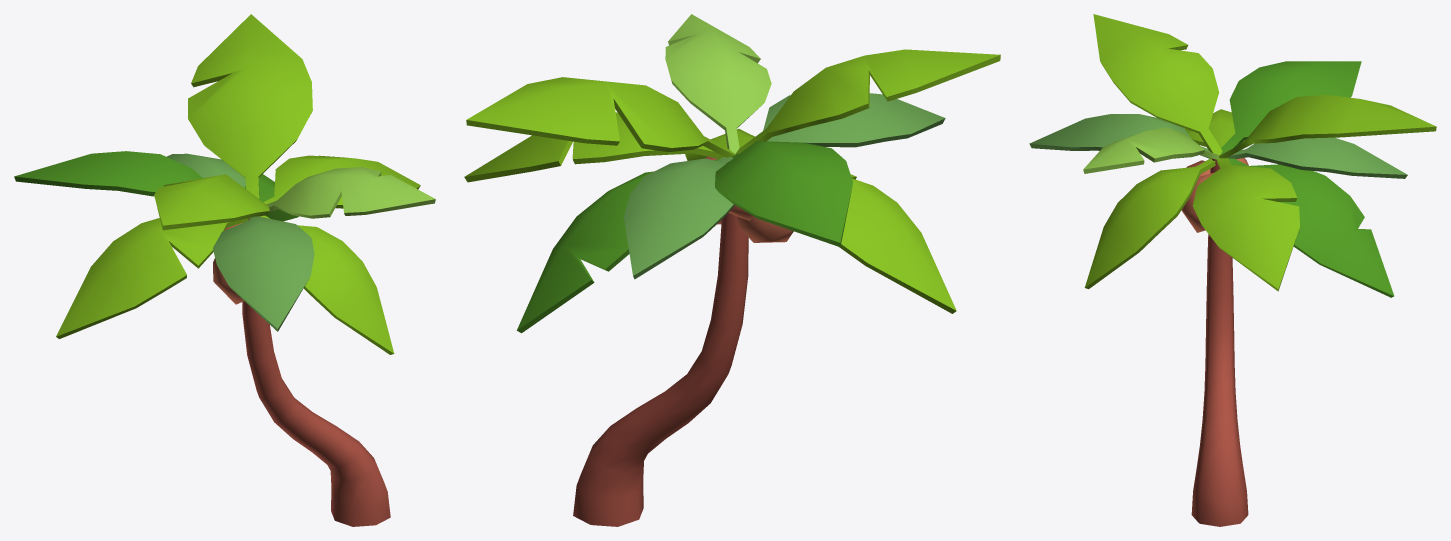
The model's file is PalmTree_01.fbx.
3 views of the same model, side by side, from view 1: azimuth 30°, elevation 25°; view 2: azimuth 150°, elevation 25°; view 3: azimuth 270°, elevation 25° (orthographic). The views are drawn at different scales.
Parts seen in each view (by area): view 1: PalmTree_01; view 2: PalmTree_01; view 3: PalmTree_01.
Part boxes in pixels (box(x1,y1,x2,y2)): PalmTree_01: box(14, 14, 435, 526); PalmTree_01: box(464, 14, 1000, 526); PalmTree_01: box(1029, 14, 1436, 526).
Bounding box in the file's own units: 10.05 × 10.4 × 9.63.
